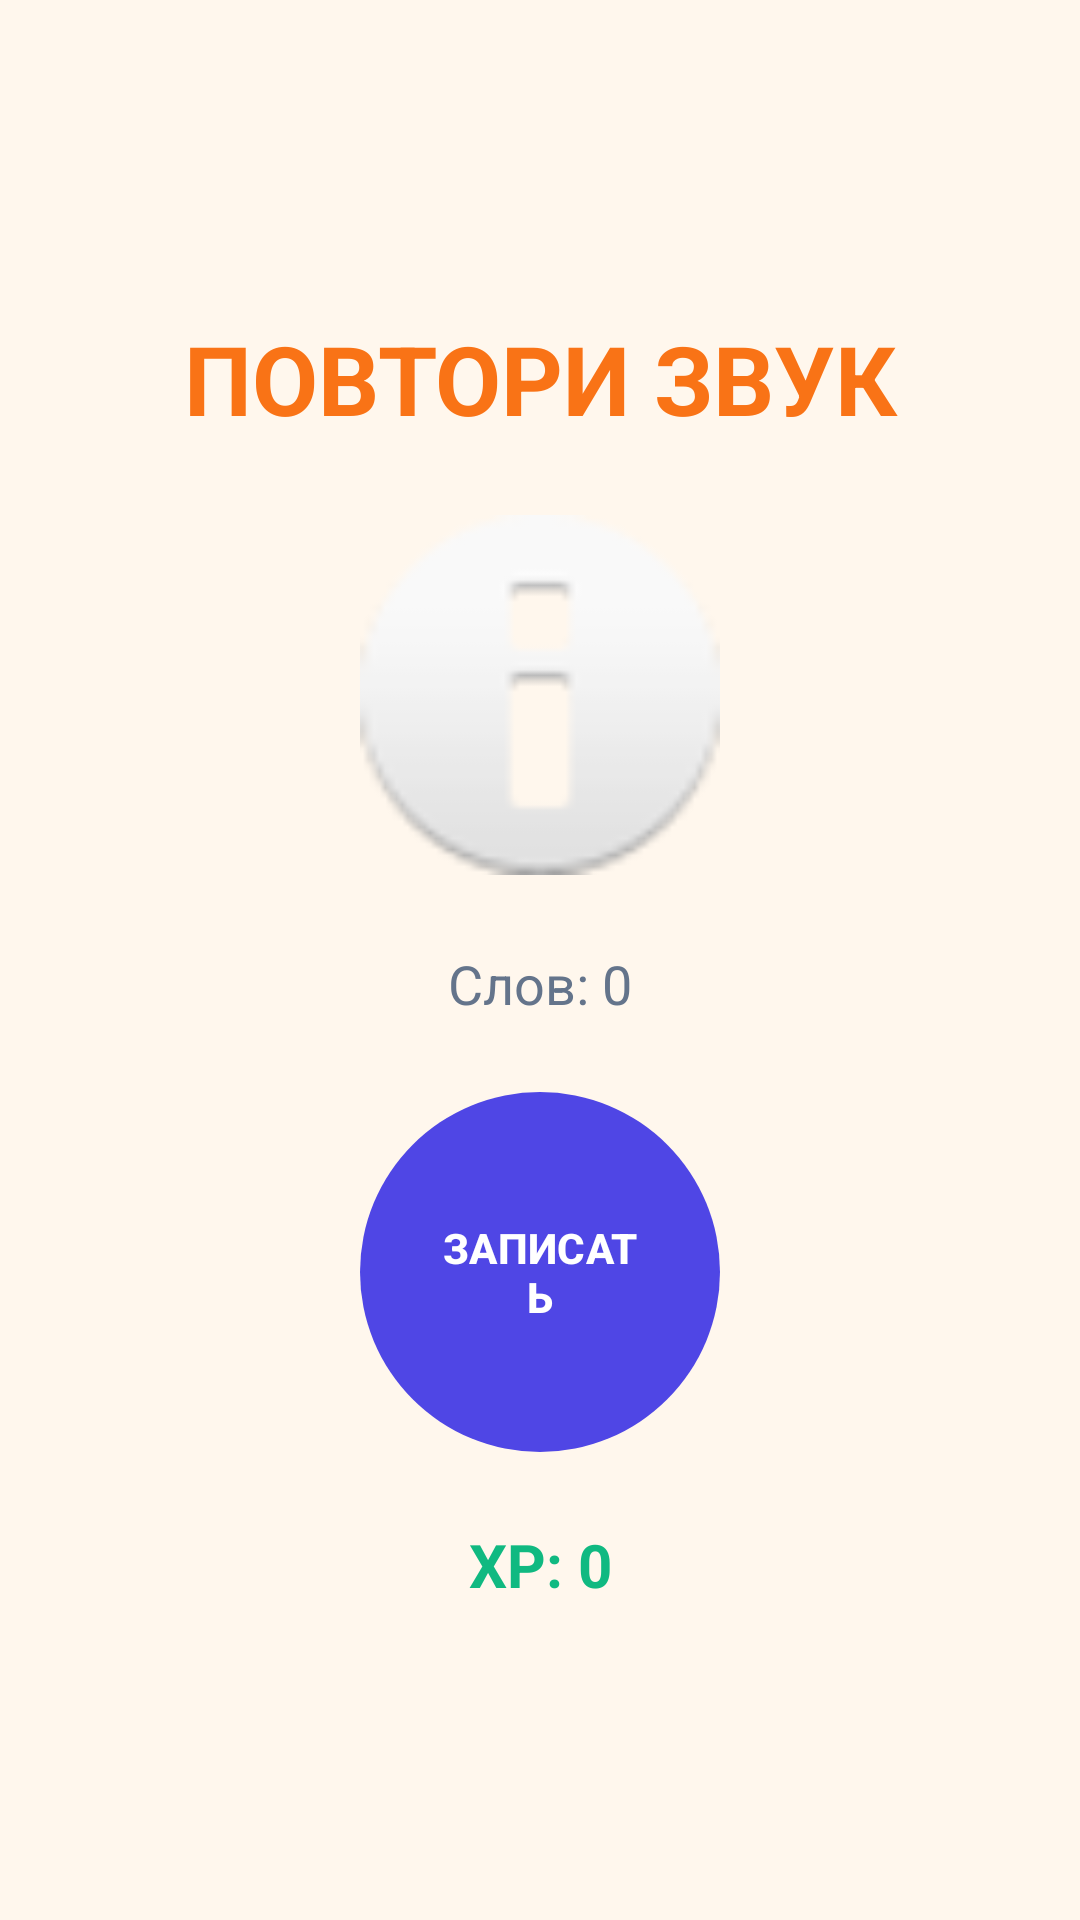

Named icons in this screenshot (1080x1920) and their centers, [x,y]:
info: [540,695]
